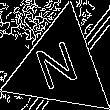N_S: (34, 36, 86, 98)
